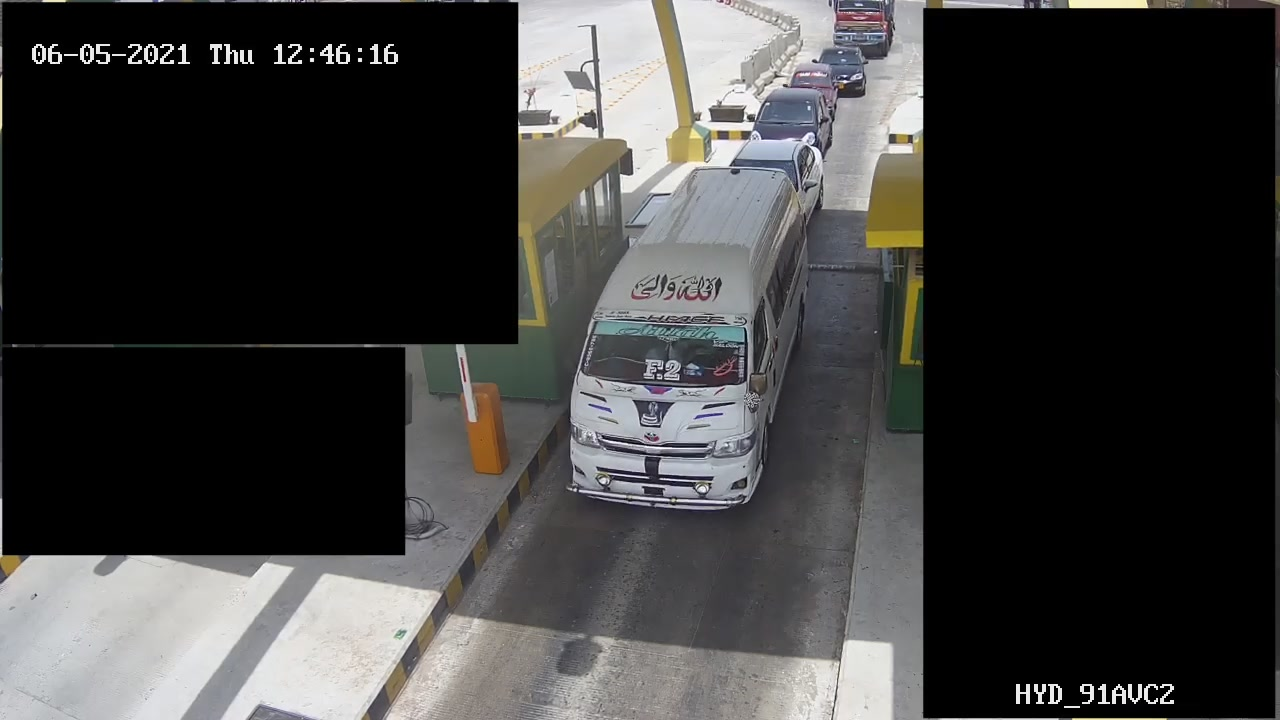F2: (563, 163, 816, 517)
